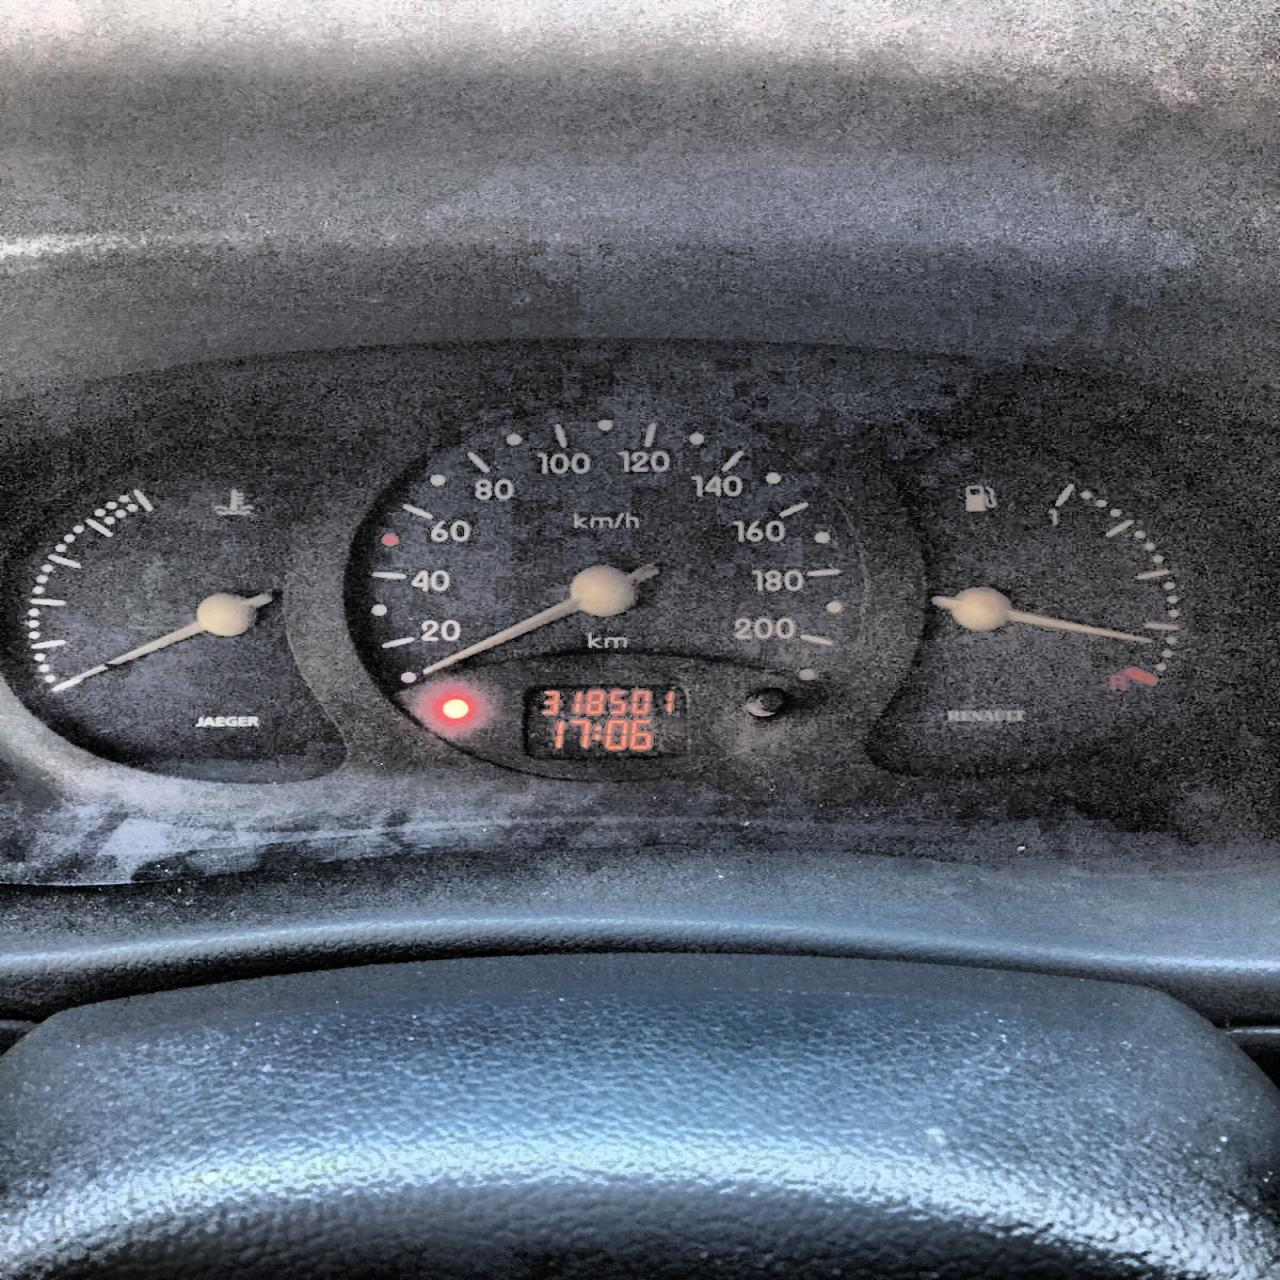0: (604, 719, 628, 749), (631, 689, 649, 714)
1: (554, 720, 564, 749), (665, 690, 673, 712), (573, 692, 580, 713)
3: (542, 690, 559, 714)
5: (608, 689, 626, 714)
6: (628, 719, 652, 749)
7: (568, 719, 588, 748)
8: (585, 689, 604, 715)
X: (593, 724, 601, 738)
odometer: (517, 681, 694, 760)
